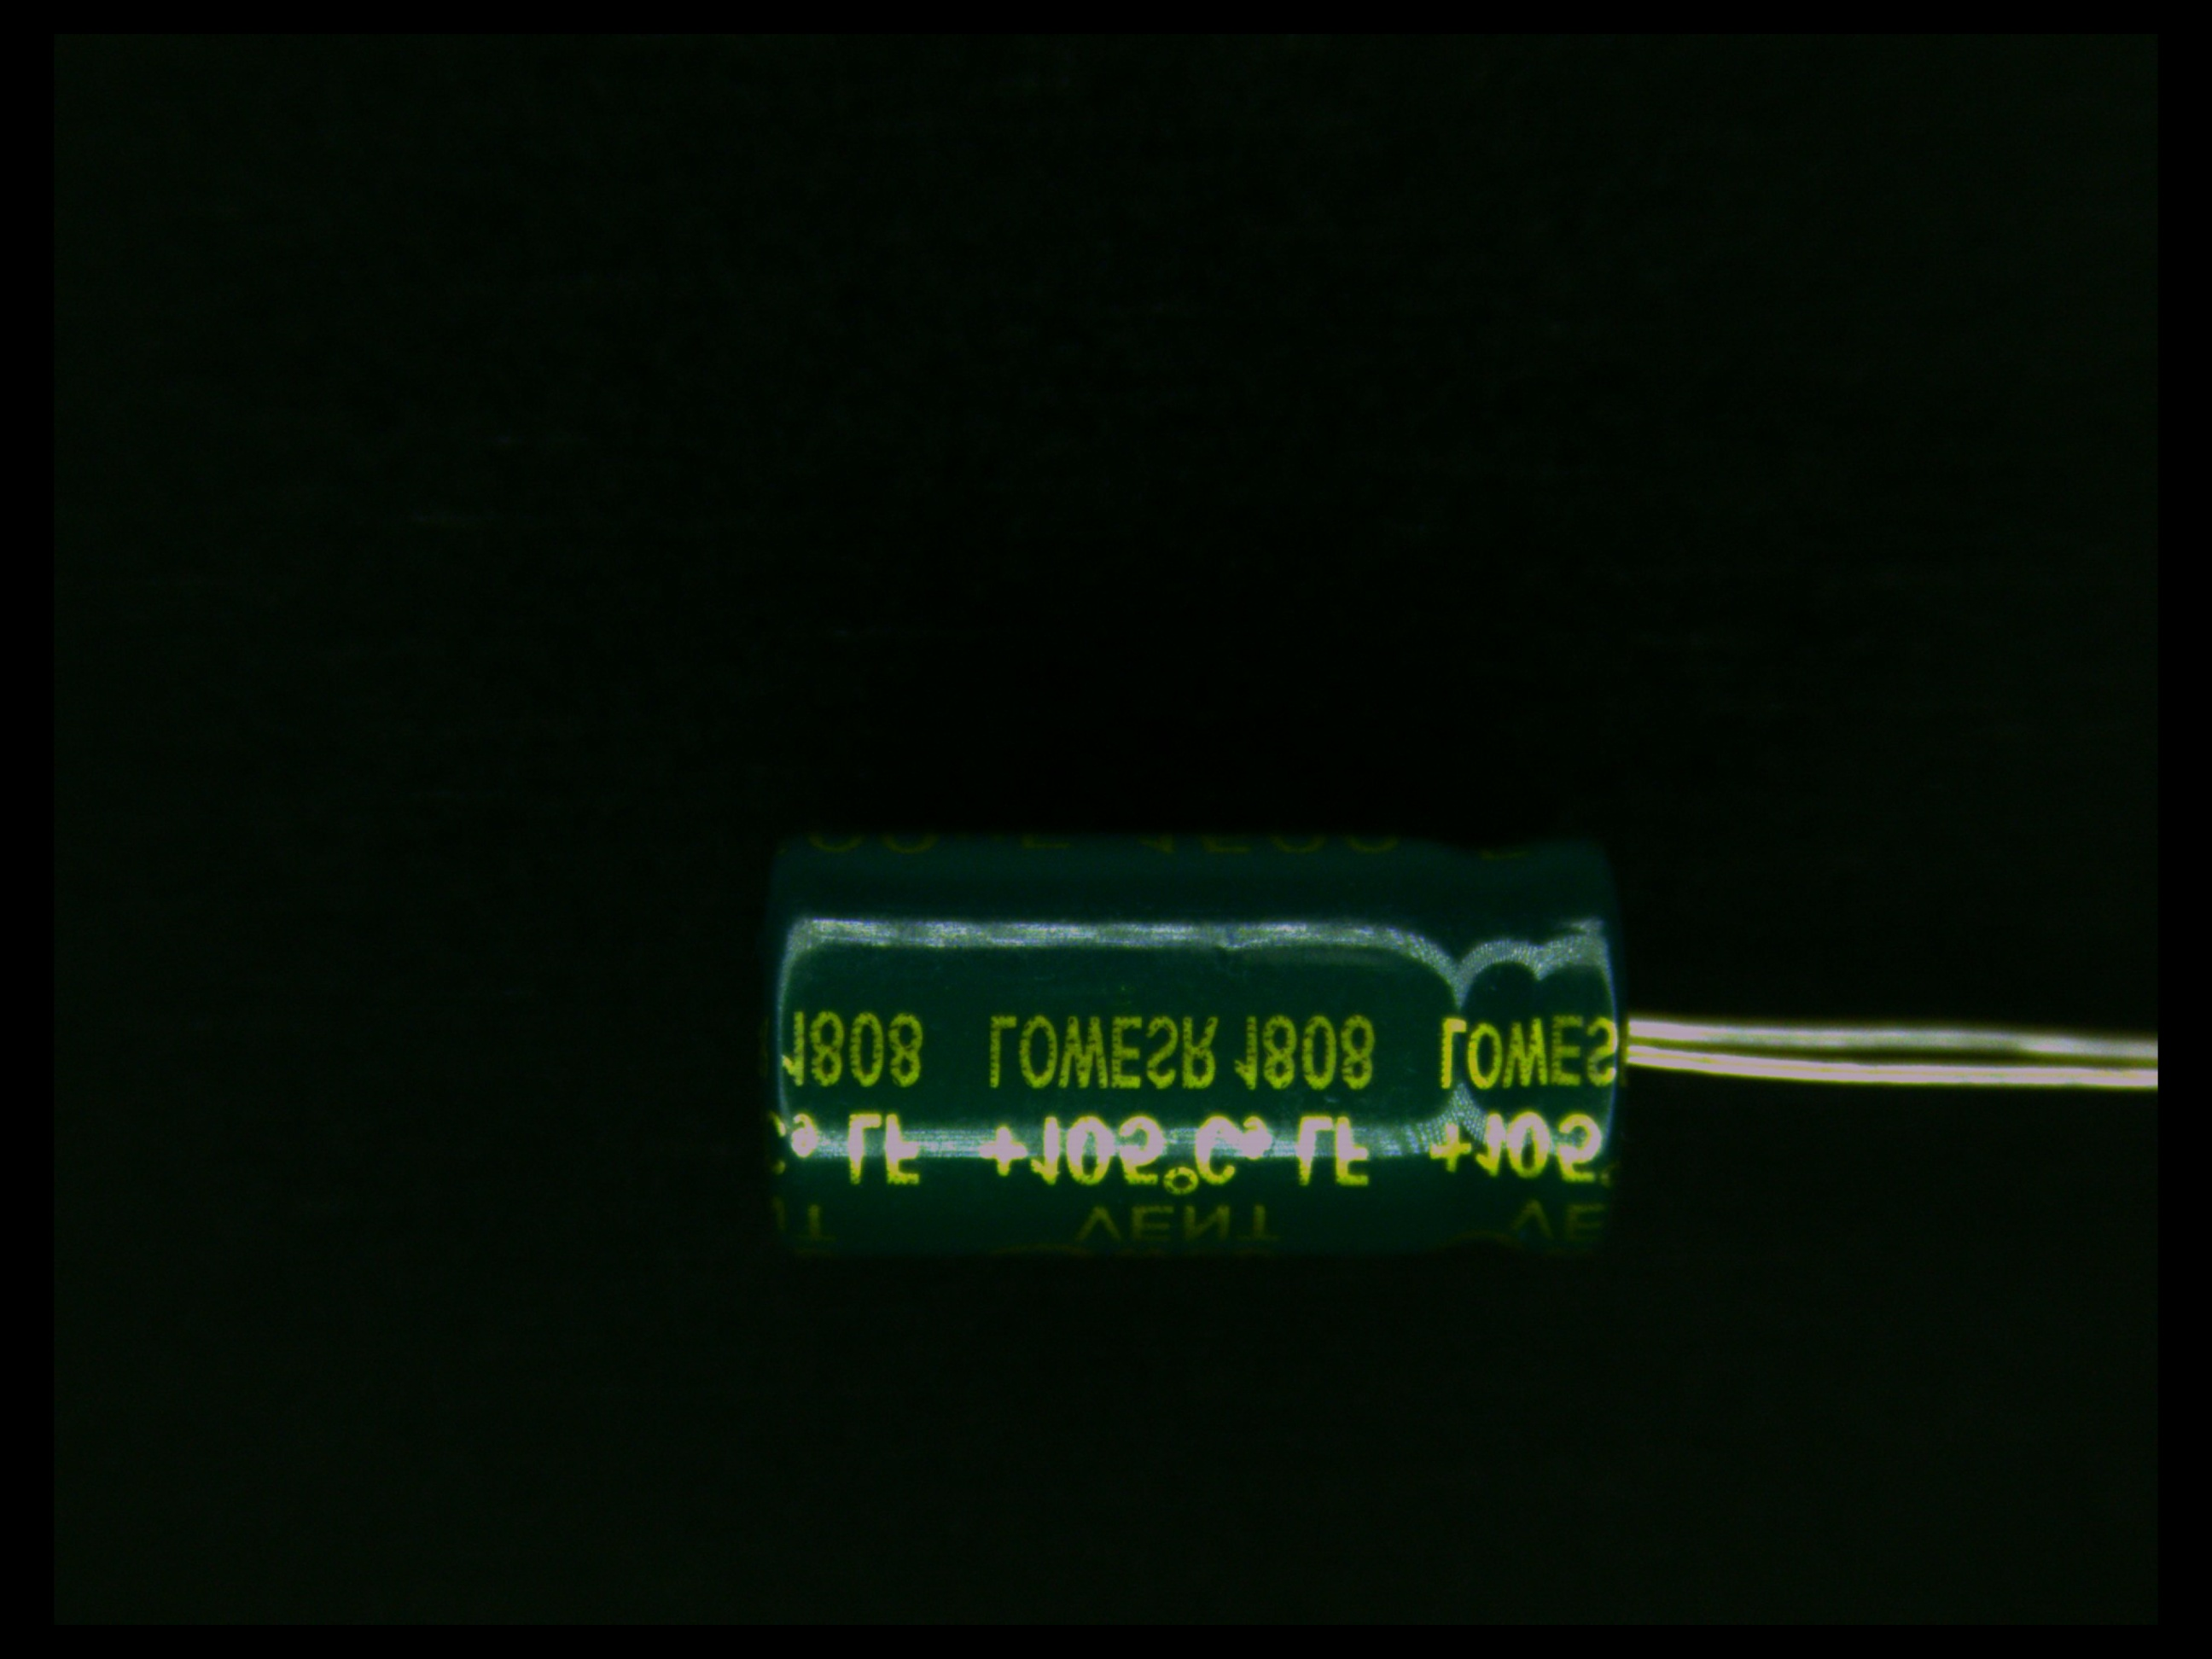c1: (754, 824, 1721, 1243)
